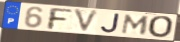6: (23, 6, 45, 30)
F: (47, 7, 74, 31)
J: (100, 14, 122, 34)
M: (120, 14, 151, 36)
O: (147, 15, 175, 40)
V: (73, 8, 101, 34)
